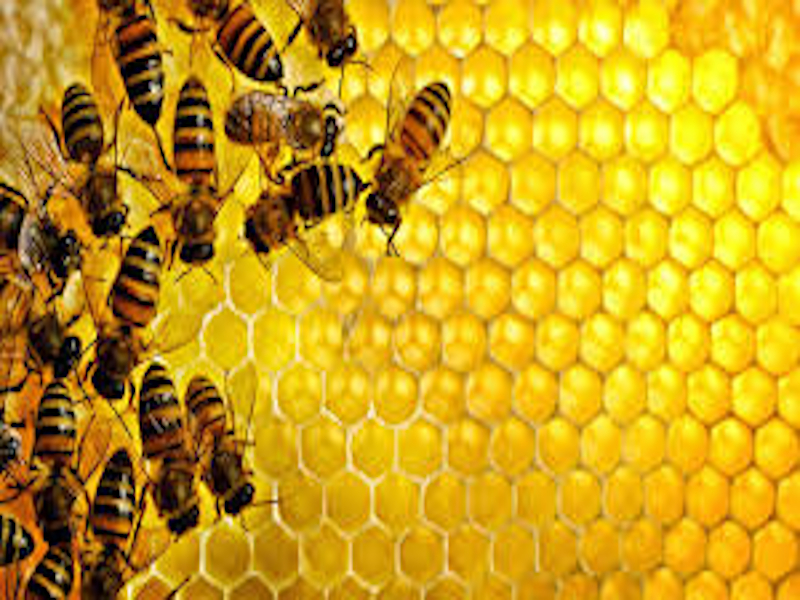abeja: (33, 79, 145, 255), (364, 70, 468, 251), (227, 147, 373, 272), (88, 225, 175, 419), (99, 1, 211, 145), (169, 72, 243, 279), (21, 378, 109, 546), (187, 384, 284, 526), (136, 348, 205, 534), (88, 447, 155, 600), (230, 88, 349, 167)
